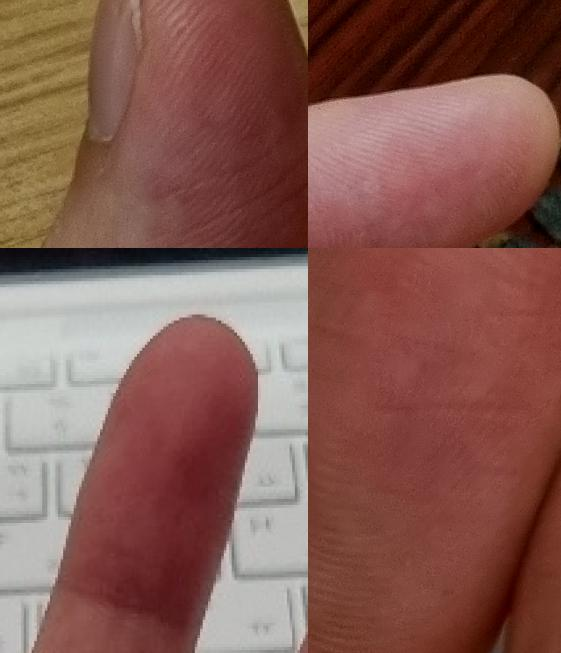Fingerprints: (308, 248, 561, 653), (56, 315, 259, 636), (308, 74, 560, 248), (134, 0, 308, 248)
